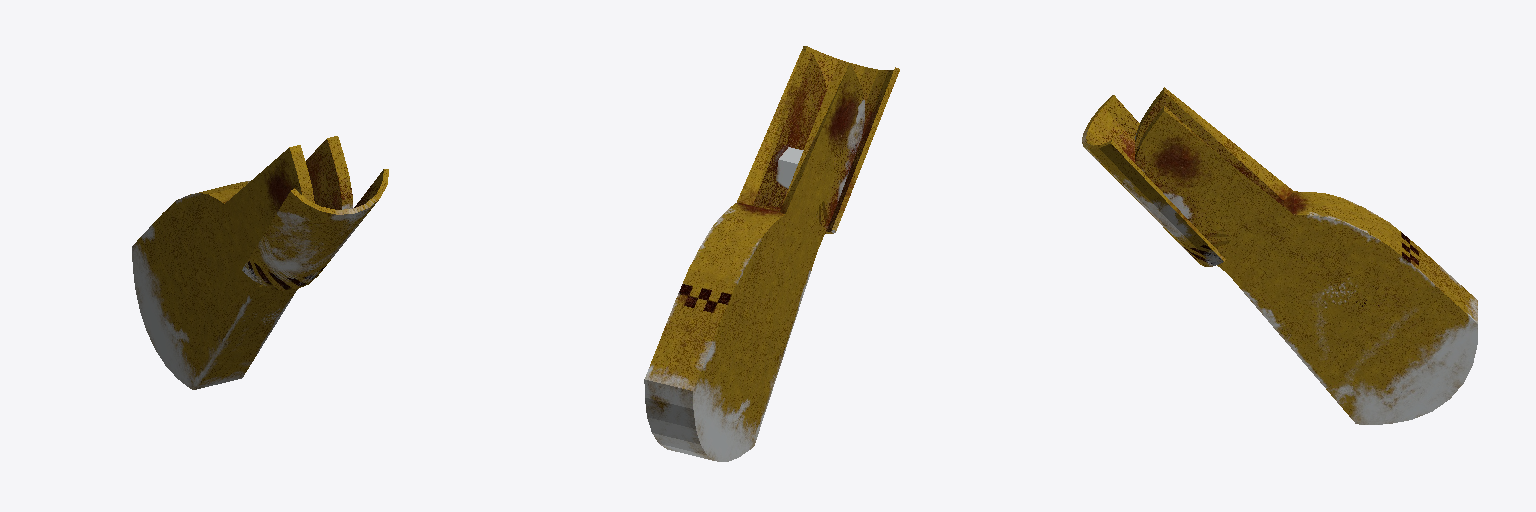
3 renders of one model, left to right at view 1: azimuth 30°, elevation 25°; view 2: azimuth 150°, elevation 25°; view 3: azimuth 270°, elevation 25°, orthographic.
Parts seen in each view (by area): view 1: Line004; view 2: Line004; view 3: Line004.
Boxes of the visible parts, <box> form: Line004: <box>132,136,388,389</box>; Line004: <box>644,46,899,461</box>; Line004: <box>1082,87,1477,424</box>.
Size of the model in its own units: 0.2978 by 0.9109 by 1.04.
1 materials, 1 textured.